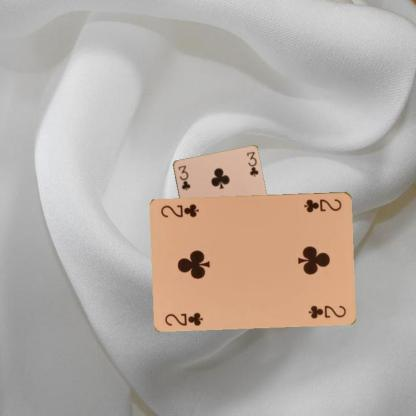2c: (162, 309, 204, 327), (302, 196, 342, 213)
3c: (176, 163, 191, 191)
